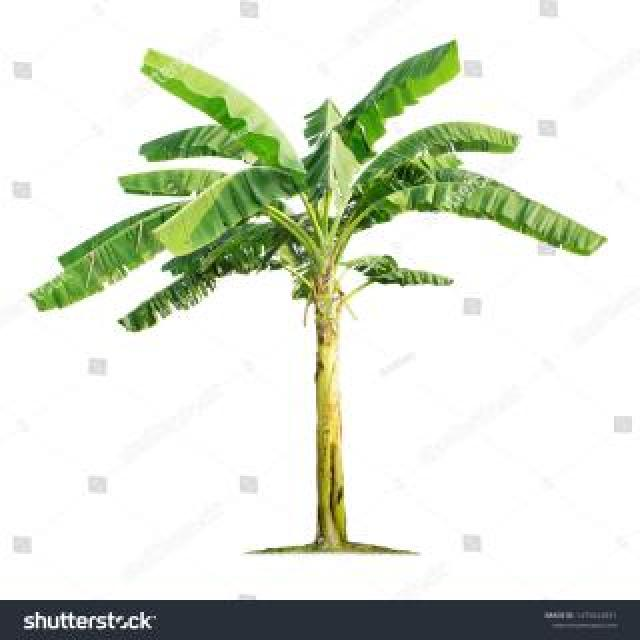Pisang: (63, 34, 606, 550)
